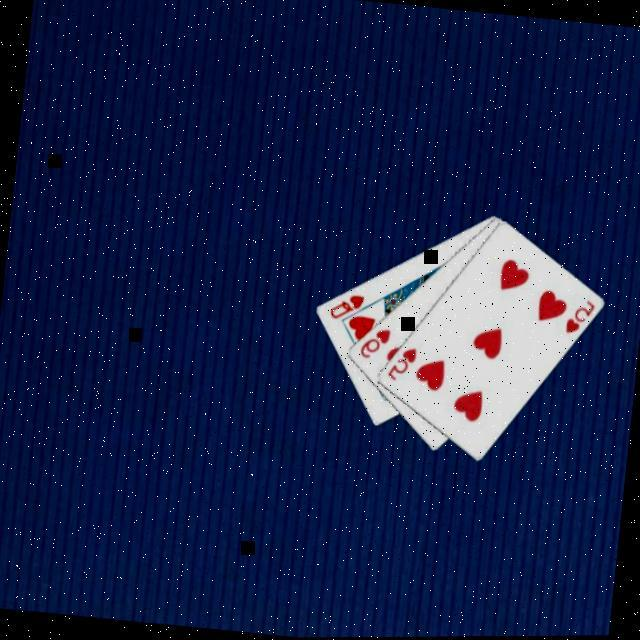5H: (562, 298, 598, 340), (384, 345, 419, 388)
6H: (356, 326, 394, 365)
QH: (326, 290, 367, 326)
